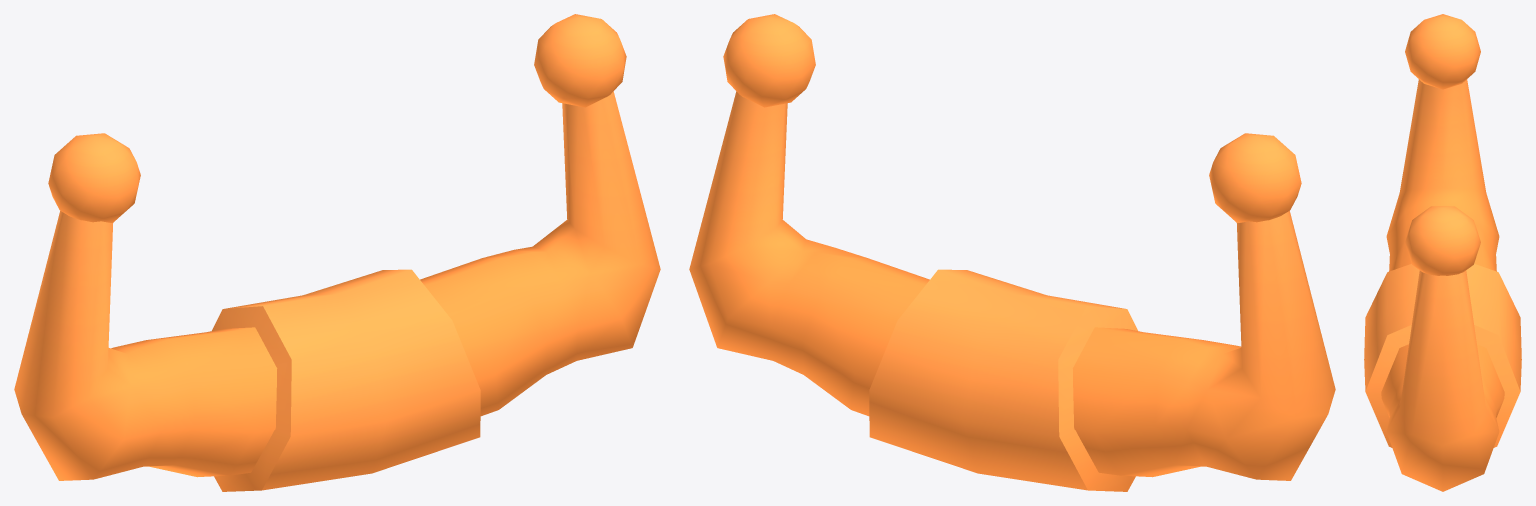
The model's file is bronze_guard_067.glb.
3 renders of one model, left to right at view 1: azimuth 30°, elevation 25°; view 2: azimuth 150°, elevation 25°; view 3: azimuth 270°, elevation 25°, orthographic. The views are drawn at different scales.
Parts seen in each view (by area): view 1: bronze_guard_067; view 2: bronze_guard_067; view 3: bronze_guard_067.
Boxes of the visible parts, left/top/right/bottom form: bronze_guard_067: left=14, top=14, right=660, bottom=491; bronze_guard_067: left=689, top=14, right=1335, bottom=491; bronze_guard_067: left=1364, top=14, right=1521, bottom=491.
Size of the model in its own units: 6.99 by 4.2 by 1.88.
1 material, 1 textured.
